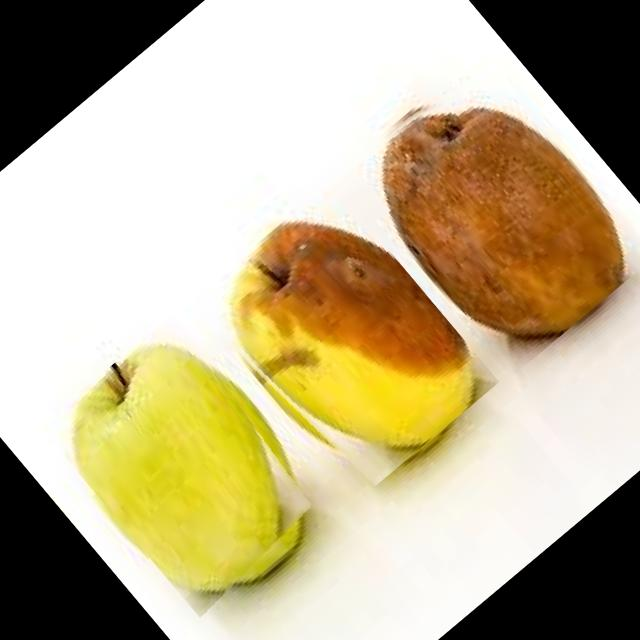Organic: (339, 45, 640, 373), (196, 192, 499, 502), (39, 312, 336, 618)
